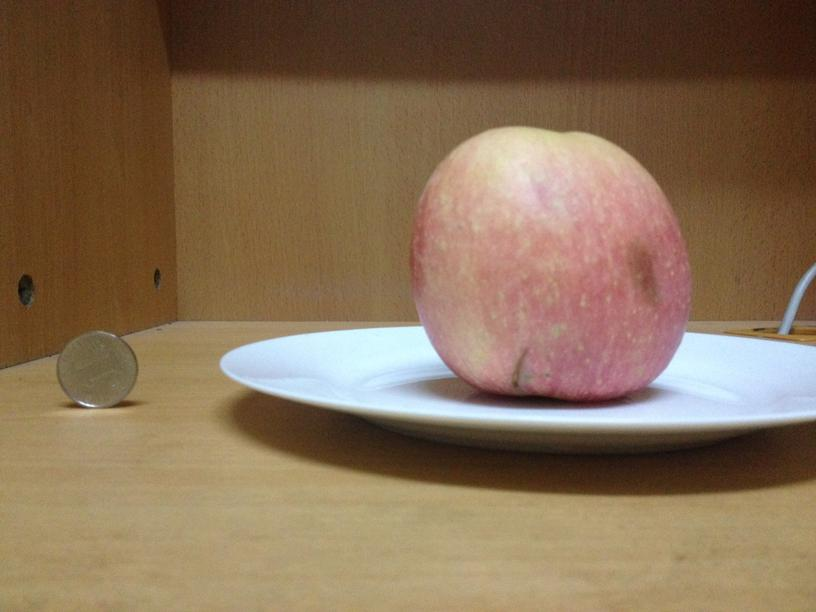apple: (411, 121, 695, 402)
coin: (57, 332, 138, 407)
